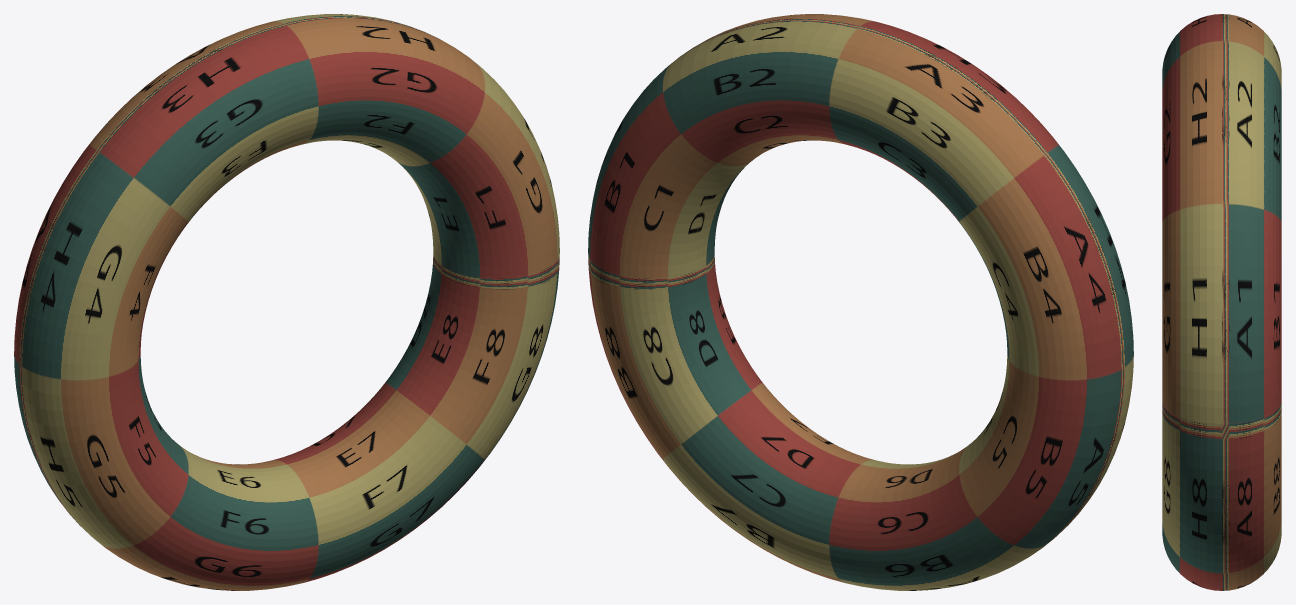
Rendered from texture_torus_R2_r2.glb.
3 renders of one model, left to right at view 1: azimuth 30°, elevation 25°; view 2: azimuth 150°, elevation 25°; view 3: azimuth 270°, elevation 25°, orthographic. The views are drawn at different scales.
Visible parts, largest first — view 1: world; view 2: world; view 3: world.
Boxes of the visible parts, <box> form: world: <box>14,14,559,590</box>; world: <box>588,14,1133,590</box>; world: <box>1162,14,1281,590</box>.
Size of the model in its own units: 18.22 by 18.22 by 3.77.
Materials: 1 (1 with a texture image).
